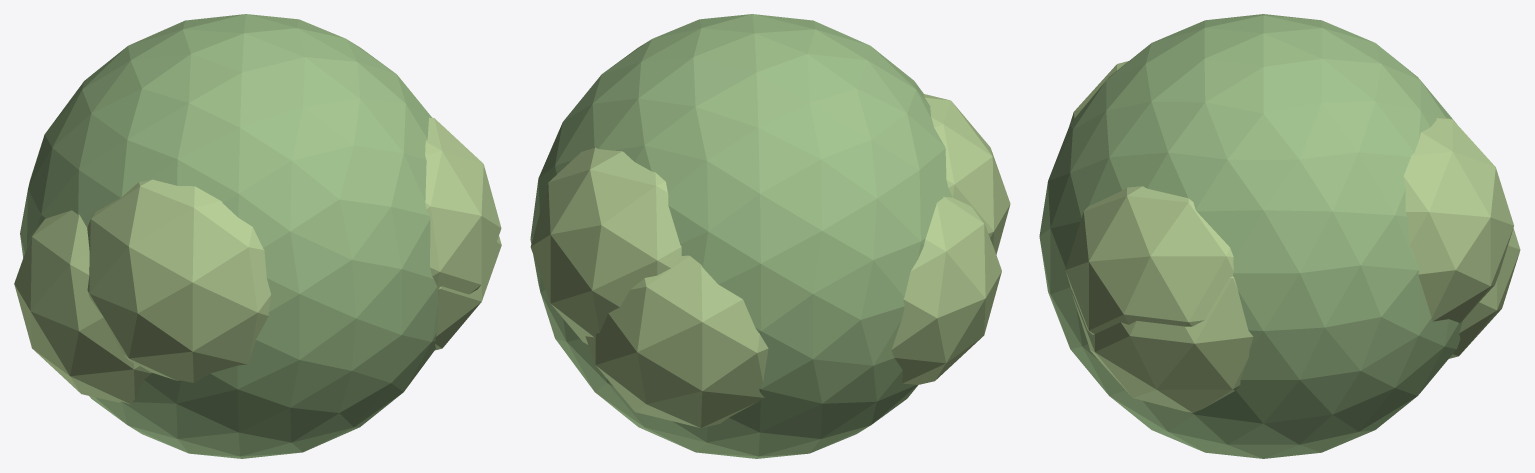
Rendered from bush.glb.
3 renders of one model, left to right at view 1: azimuth 30°, elevation 25°; view 2: azimuth 150°, elevation 25°; view 3: azimuth 270°, elevation 25°, orthographic.
Parts seen in each view (by area): view 1: bush_leaf, bush_leaf2; view 2: bush_leaf, bush_leaf2; view 3: bush_leaf, bush_leaf2.
Part boxes in pixels (<box>): bush_leaf: <box>20,14,438,458</box>; bush_leaf2: <box>14,117,501,404</box>; bush_leaf: <box>530,14,952,458</box>; bush_leaf2: <box>530,94,1010,427</box>; bush_leaf: <box>1039,14,1462,458</box>; bush_leaf2: <box>1065,61,1520,412</box>.
Bounding box in the file's own units: 1.11 × 1 × 1.07.
